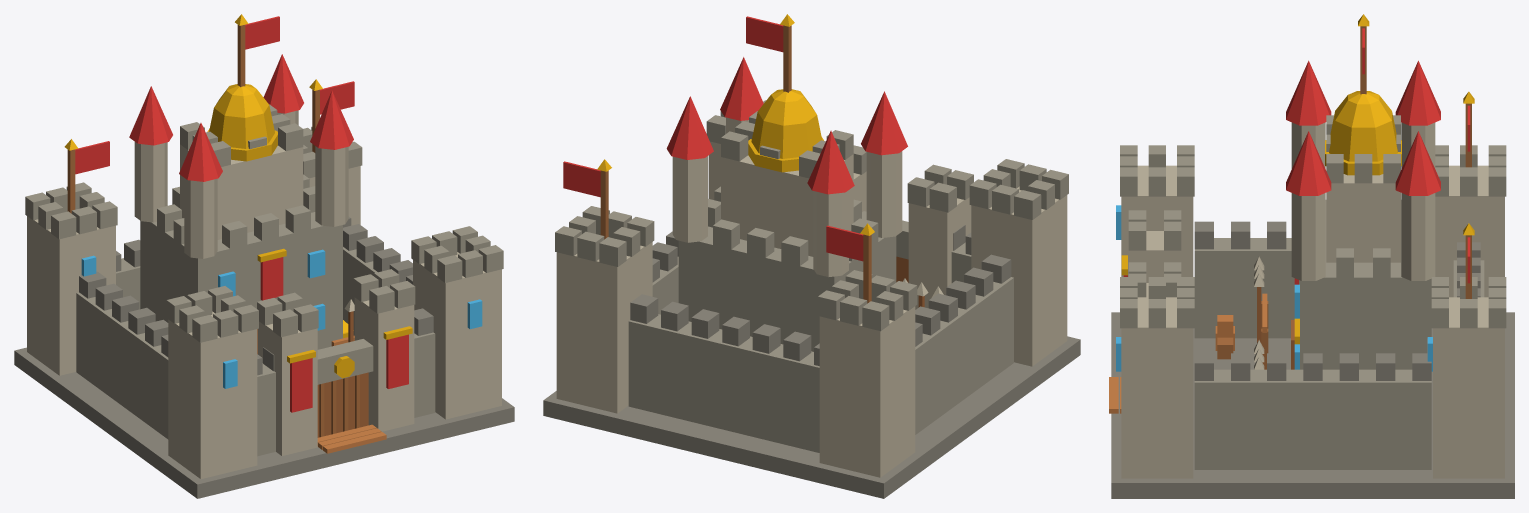
File: castle_v2.glb
3 renders of one model, left to right at view 1: azimuth 30°, elevation 25°; view 2: azimuth 150°, elevation 25°; view 3: azimuth 270°, elevation 25°, orthographic. The views are drawn at different scales.
Parts seen in each view (by area): view 1: castle_v2; view 2: castle_v2; view 3: castle_v2.
Boxes of the visible parts, left/top/right/bottom form: castle_v2: left=14, top=14, right=514, bottom=498; castle_v2: left=543, top=14, right=1080, bottom=498; castle_v2: left=1109, top=14, right=1514, bottom=498.
Size of the model in its own units: 0.925 by 1 by 0.925.
1 material, 1 textured.
